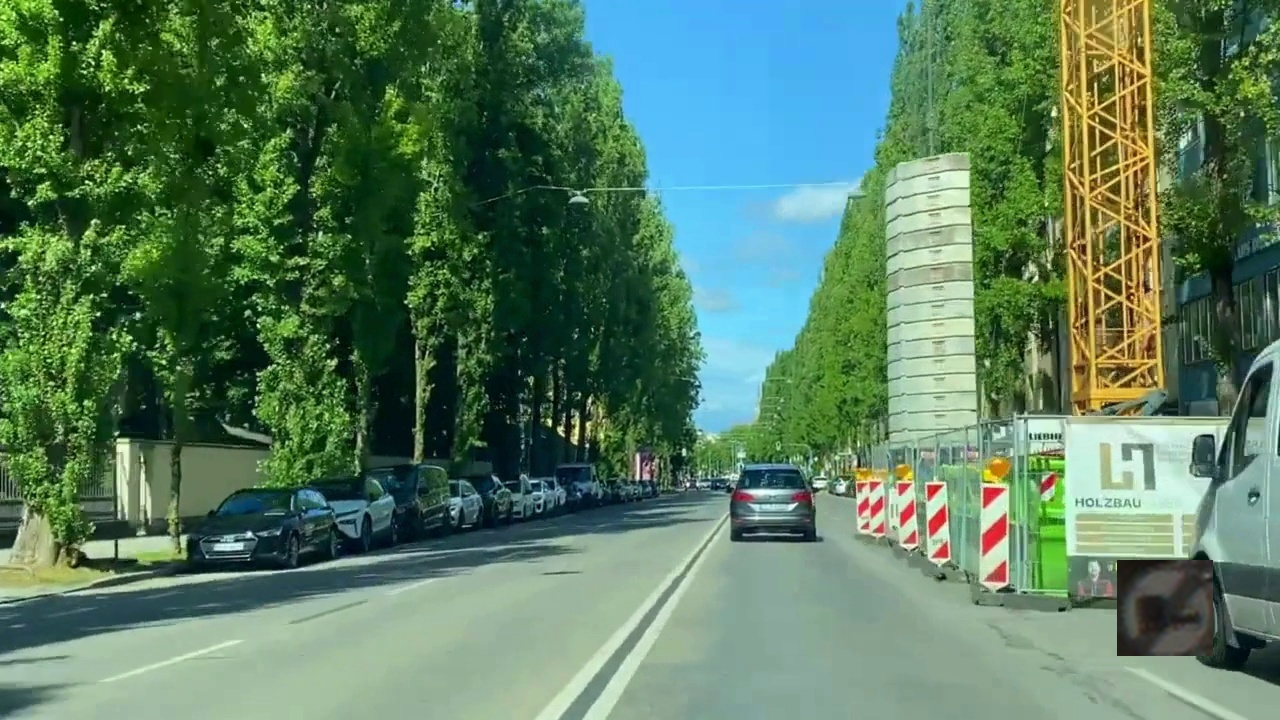End no pass >3.5t: (1117, 560, 1213, 656)
